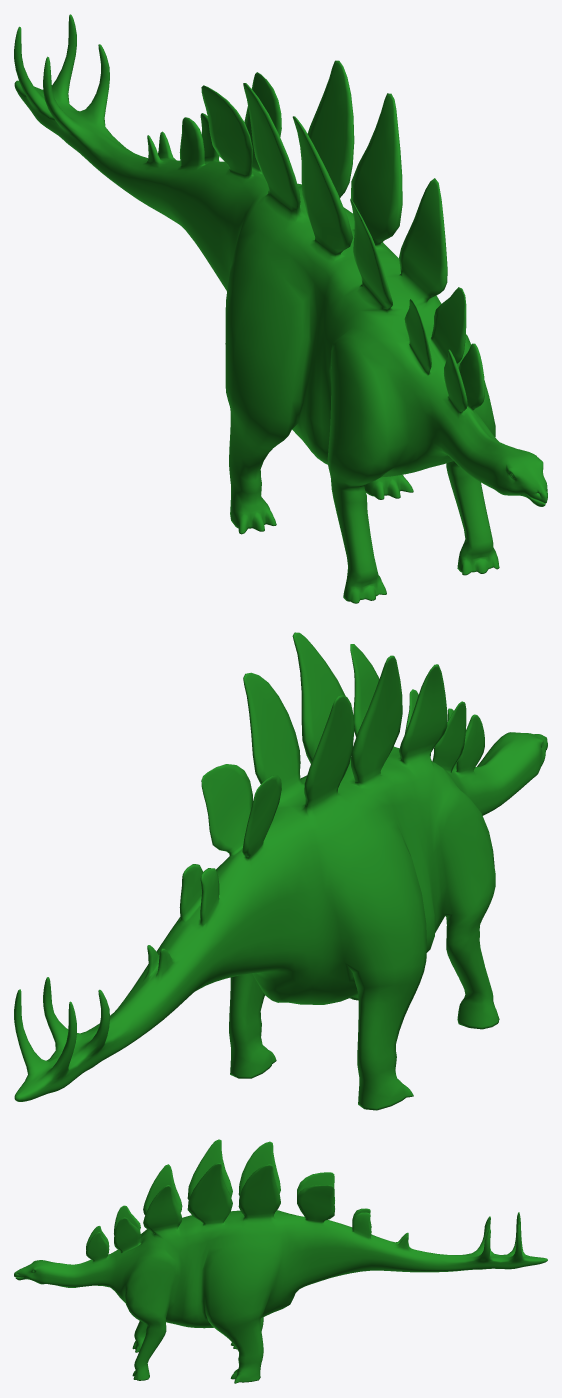
File: stegosaurio_verde.glb
3 views of the same model, one above another, from view 1: azimuth 30°, elevation 25°; view 2: azimuth 150°, elevation 25°; view 3: azimuth 270°, elevation 25° (orthographic). The views are drawn at different scales.
Visible parts, largest first — view 1: stegos; view 2: stegos; view 3: stegos.
Part boxes in pixels (bbox=[...]): stegos: bbox=[14, 14, 547, 603]; stegos: bbox=[14, 632, 547, 1110]; stegos: bbox=[14, 1139, 547, 1383].
Bounding box in the file's own units: 2.06 × 4.61 × 10.55.
